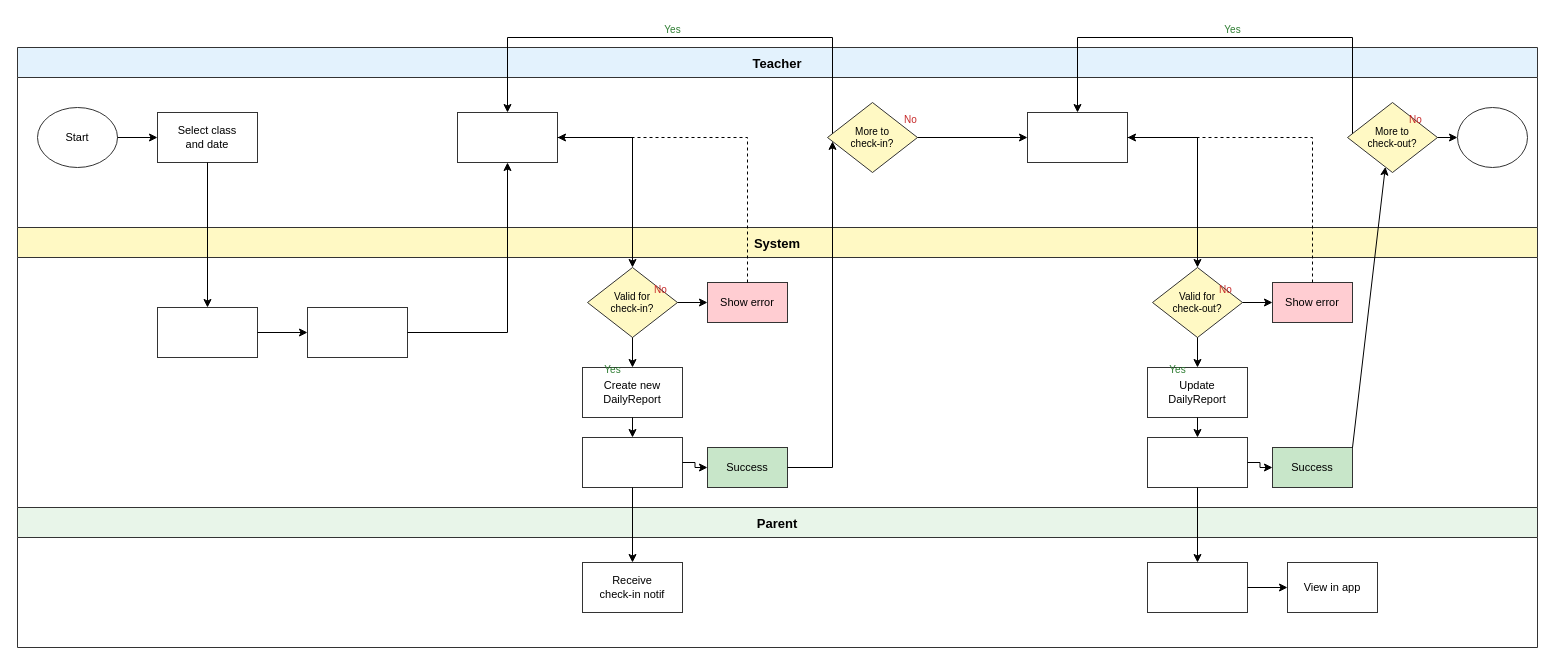
Image size: 1555x665. Some labels were removed from this diagram. Each missing label, with the centre of its shape:
Click check-in for student: point 507,137
Click check-out for student: point 1077,137
Display student list: point 357,332
Done: point 1492,137
Load student list from DB: point 207,332
Receive check-out notif: point 1197,587
Send check-in notification: point 632,462
Send check-out notification: point 1197,462
